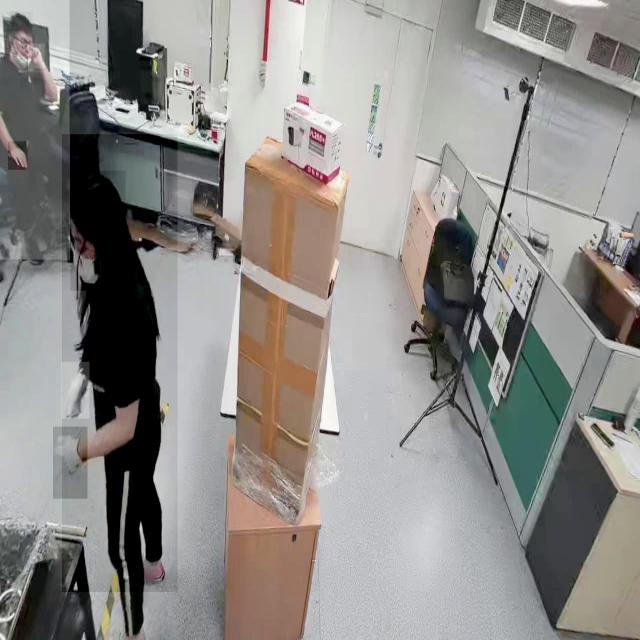face_mask: (70, 212, 100, 290)
hand_glove: (53, 426, 88, 499), (62, 362, 90, 419)
hand_noglove: (8, 141, 28, 171), (28, 44, 45, 70)
head_nohelmet: (70, 170, 126, 220), (7, 12, 33, 32)
person: (62, 134, 178, 593), (0, 0, 70, 260)
